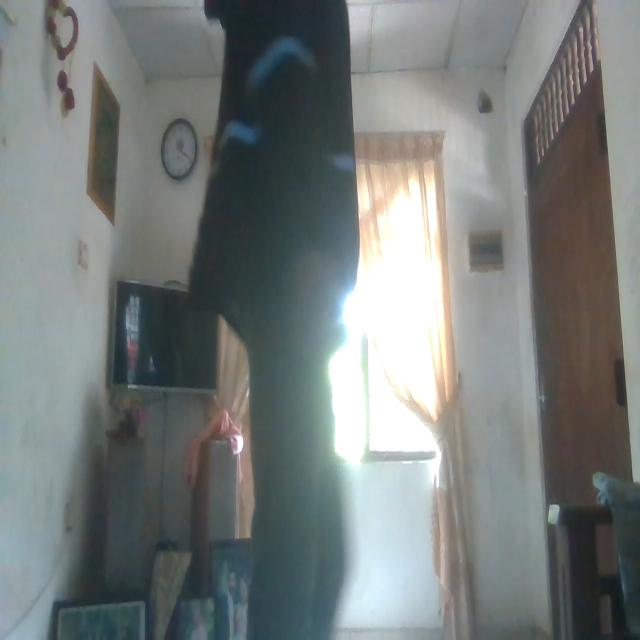Jacket_Wearer: (205, 0, 353, 341)
Person: (200, 0, 370, 640)
